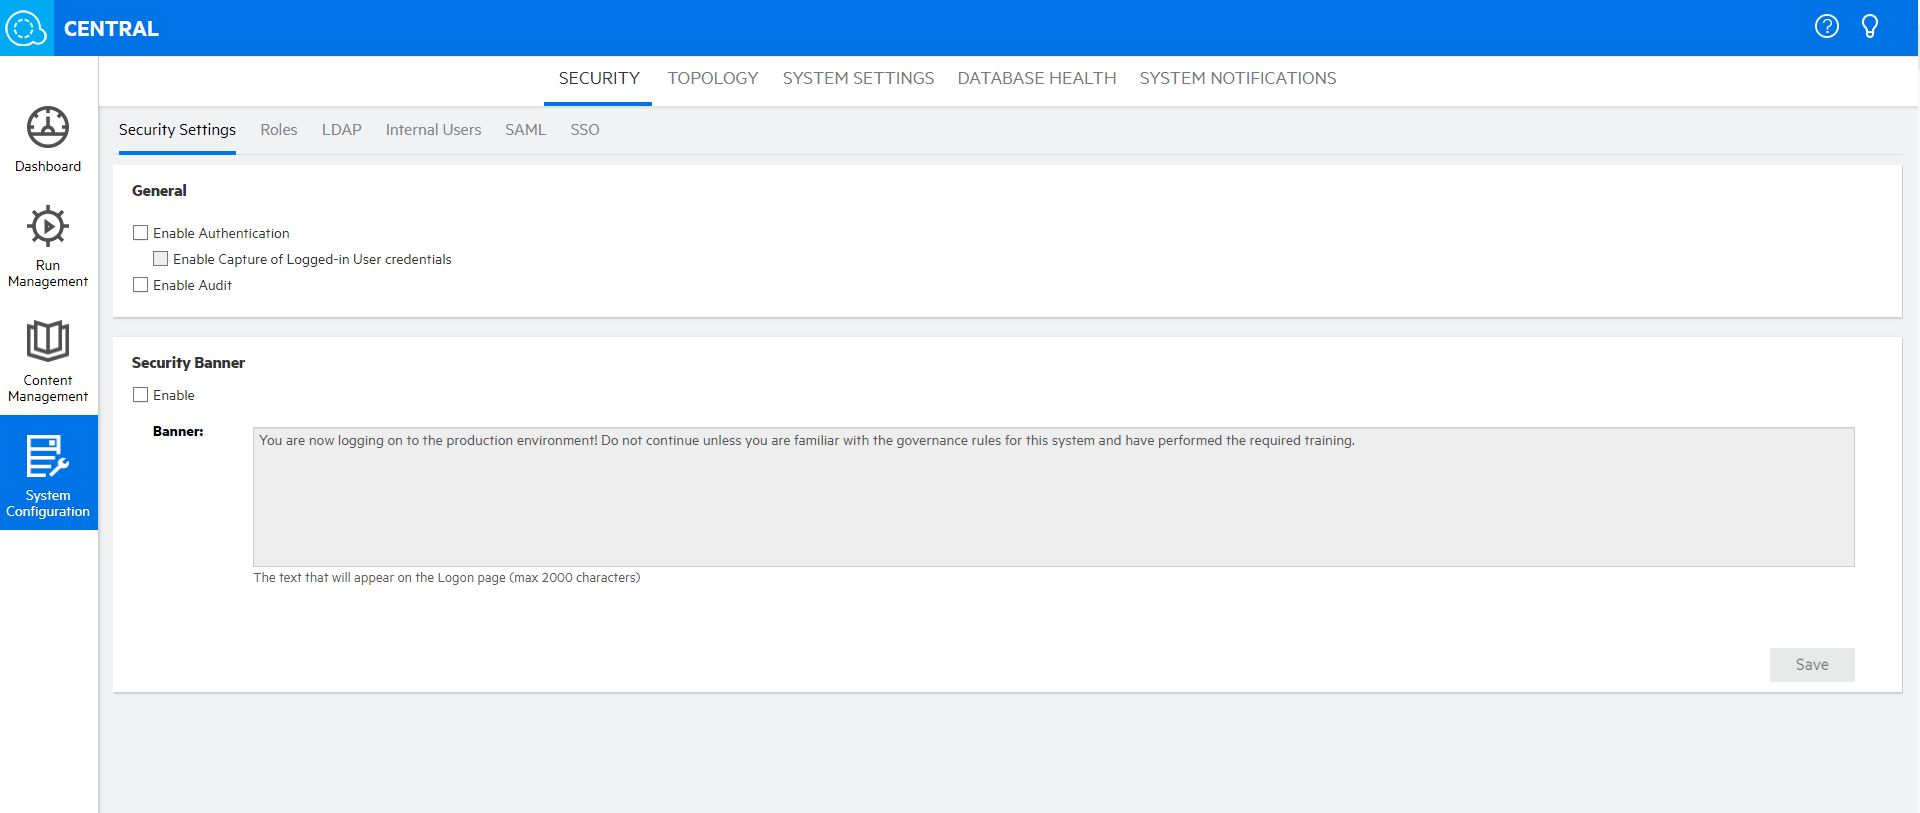button: (1742, 635, 1864, 688)
checkbox: (130, 375, 152, 409), (149, 249, 176, 275), (124, 274, 153, 299), (127, 218, 151, 242)
